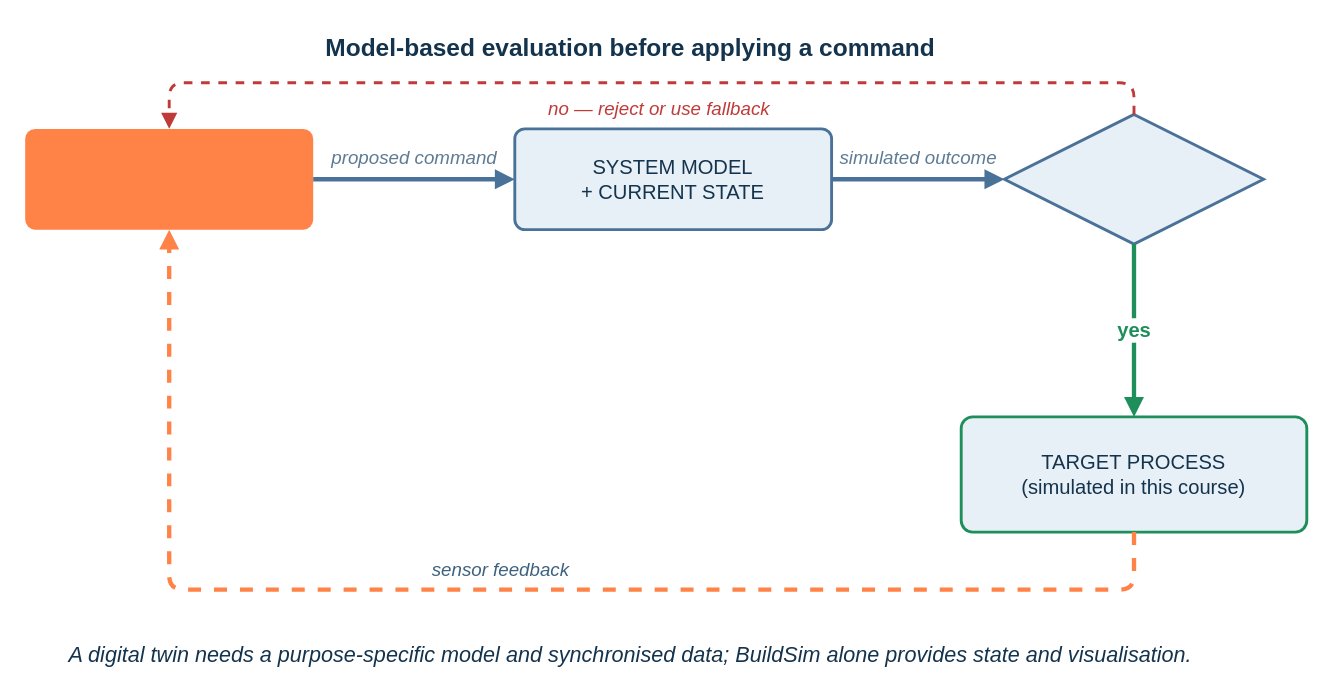
The diagram is 1332 pixels wide and 697 high, and some of its shapes have lost their labels. The centre of each missing label's shape, as x and y in pixels:
"CONTROLLER" goes at pixel 168 178.
"criteria satisfied?" goes at pixel 1133 178.
